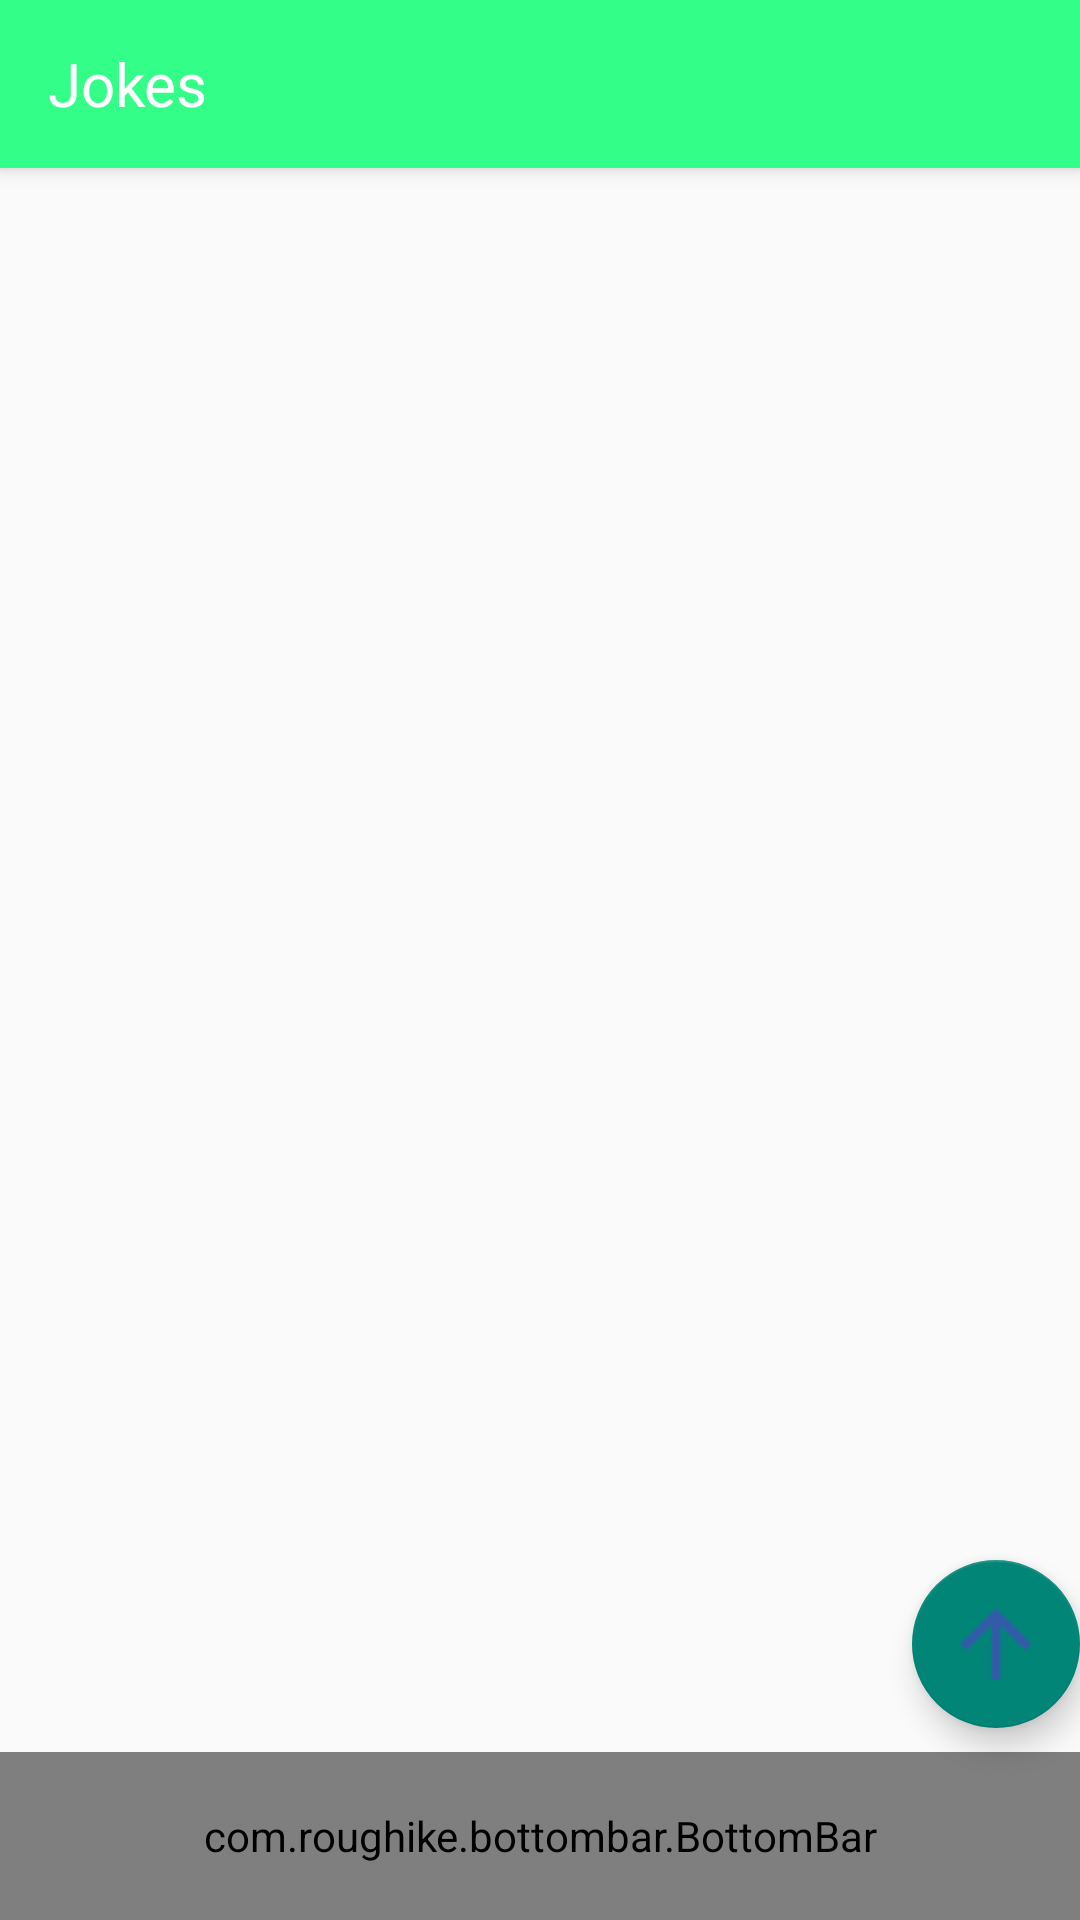

Icon click points for this 1080 x 1920 phone screenshot, format point (x, y):
goup: point (996, 1644)
